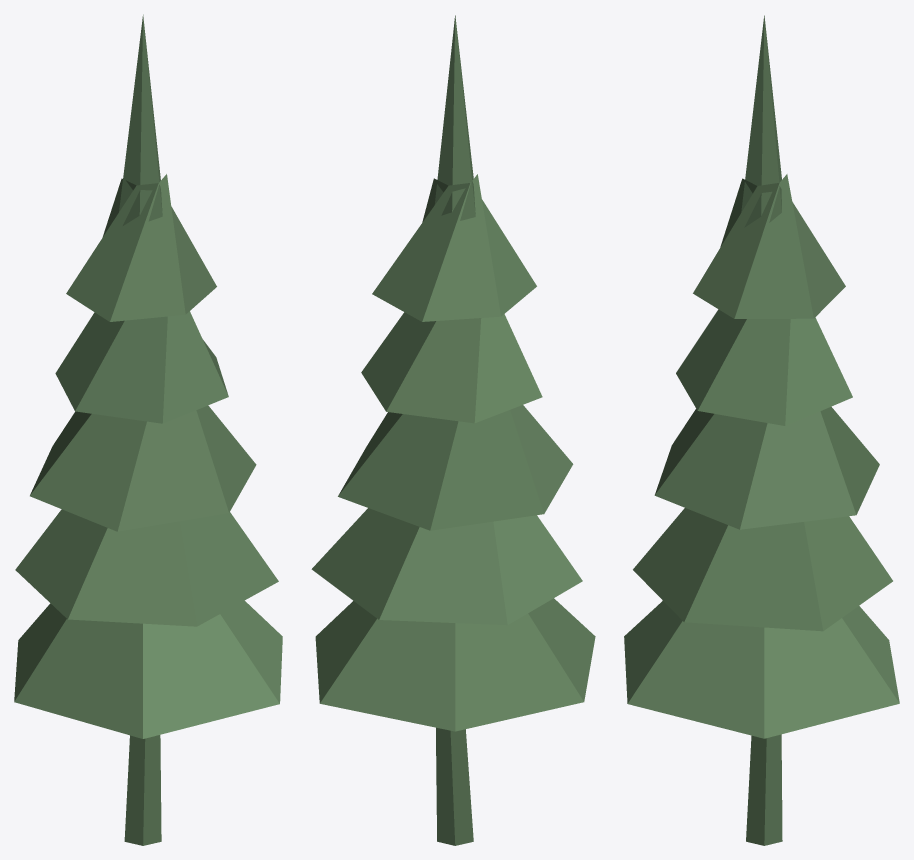
Rendered from tree_conifer_slim.glb.
The picture shows the model from 3 angles, left to right: view 1: azimuth 30°, elevation 25°; view 2: azimuth 150°, elevation 25°; view 3: azimuth 270°, elevation 25°; orthographic projection.
Parts seen in each view (by area): view 1: tree_conifer_slim; view 2: tree_conifer_slim; view 3: tree_conifer_slim.
Boxes of the visible parts, x1,y1,x2,y2 form: tree_conifer_slim: (14, 14, 282, 845); tree_conifer_slim: (311, 15, 595, 845); tree_conifer_slim: (624, 15, 899, 845).
Size of the model in its own units: 3.24 by 9.5 by 2.88.
